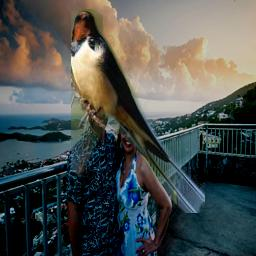Swallow: (71, 9, 205, 213)
